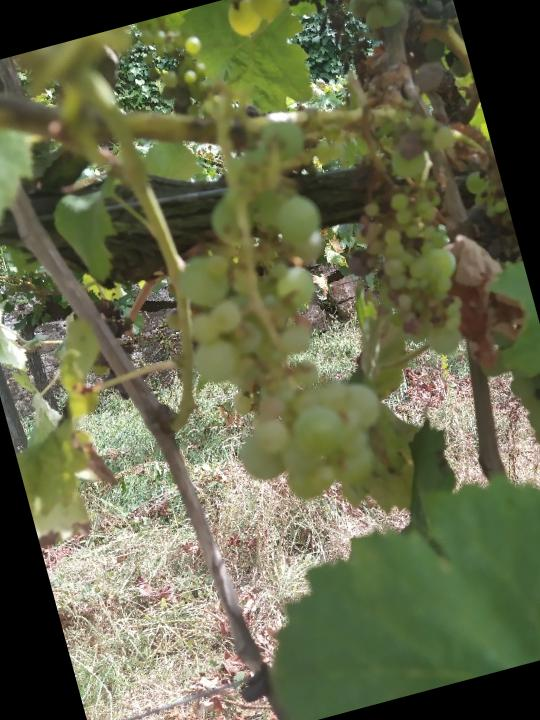grape: (146, 156, 408, 539)
